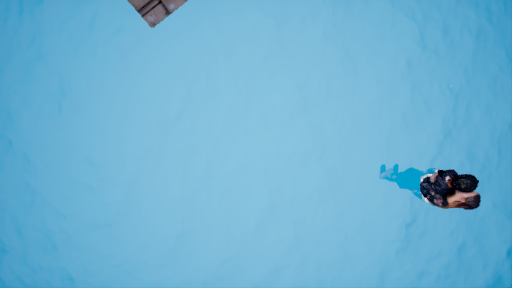person: (370, 161, 482, 216)
